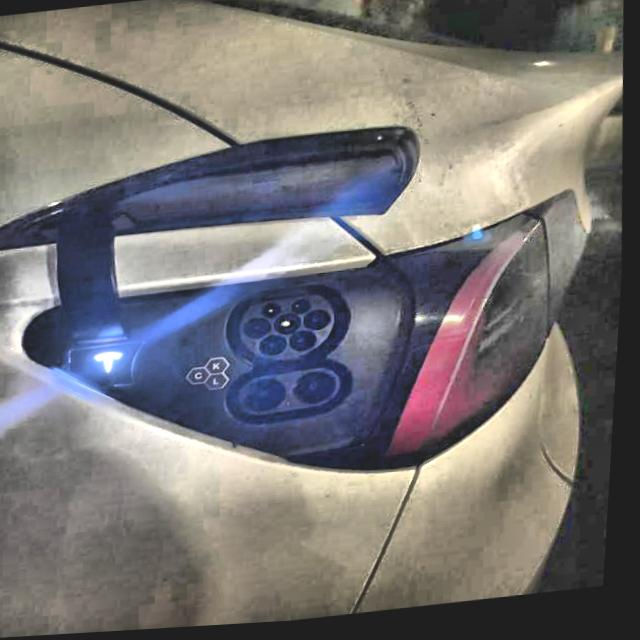inlet: (243, 298, 338, 364)
inlet-above-left: (266, 307, 285, 321)
inlet-above-right: (296, 303, 314, 317)
inlet-below-left: (264, 338, 292, 359)
inlet-below-right: (294, 334, 322, 355)
inlet-center: (278, 317, 305, 338)
inlet-center-left: (248, 321, 275, 342)
inlet-center-right: (307, 314, 334, 334)
